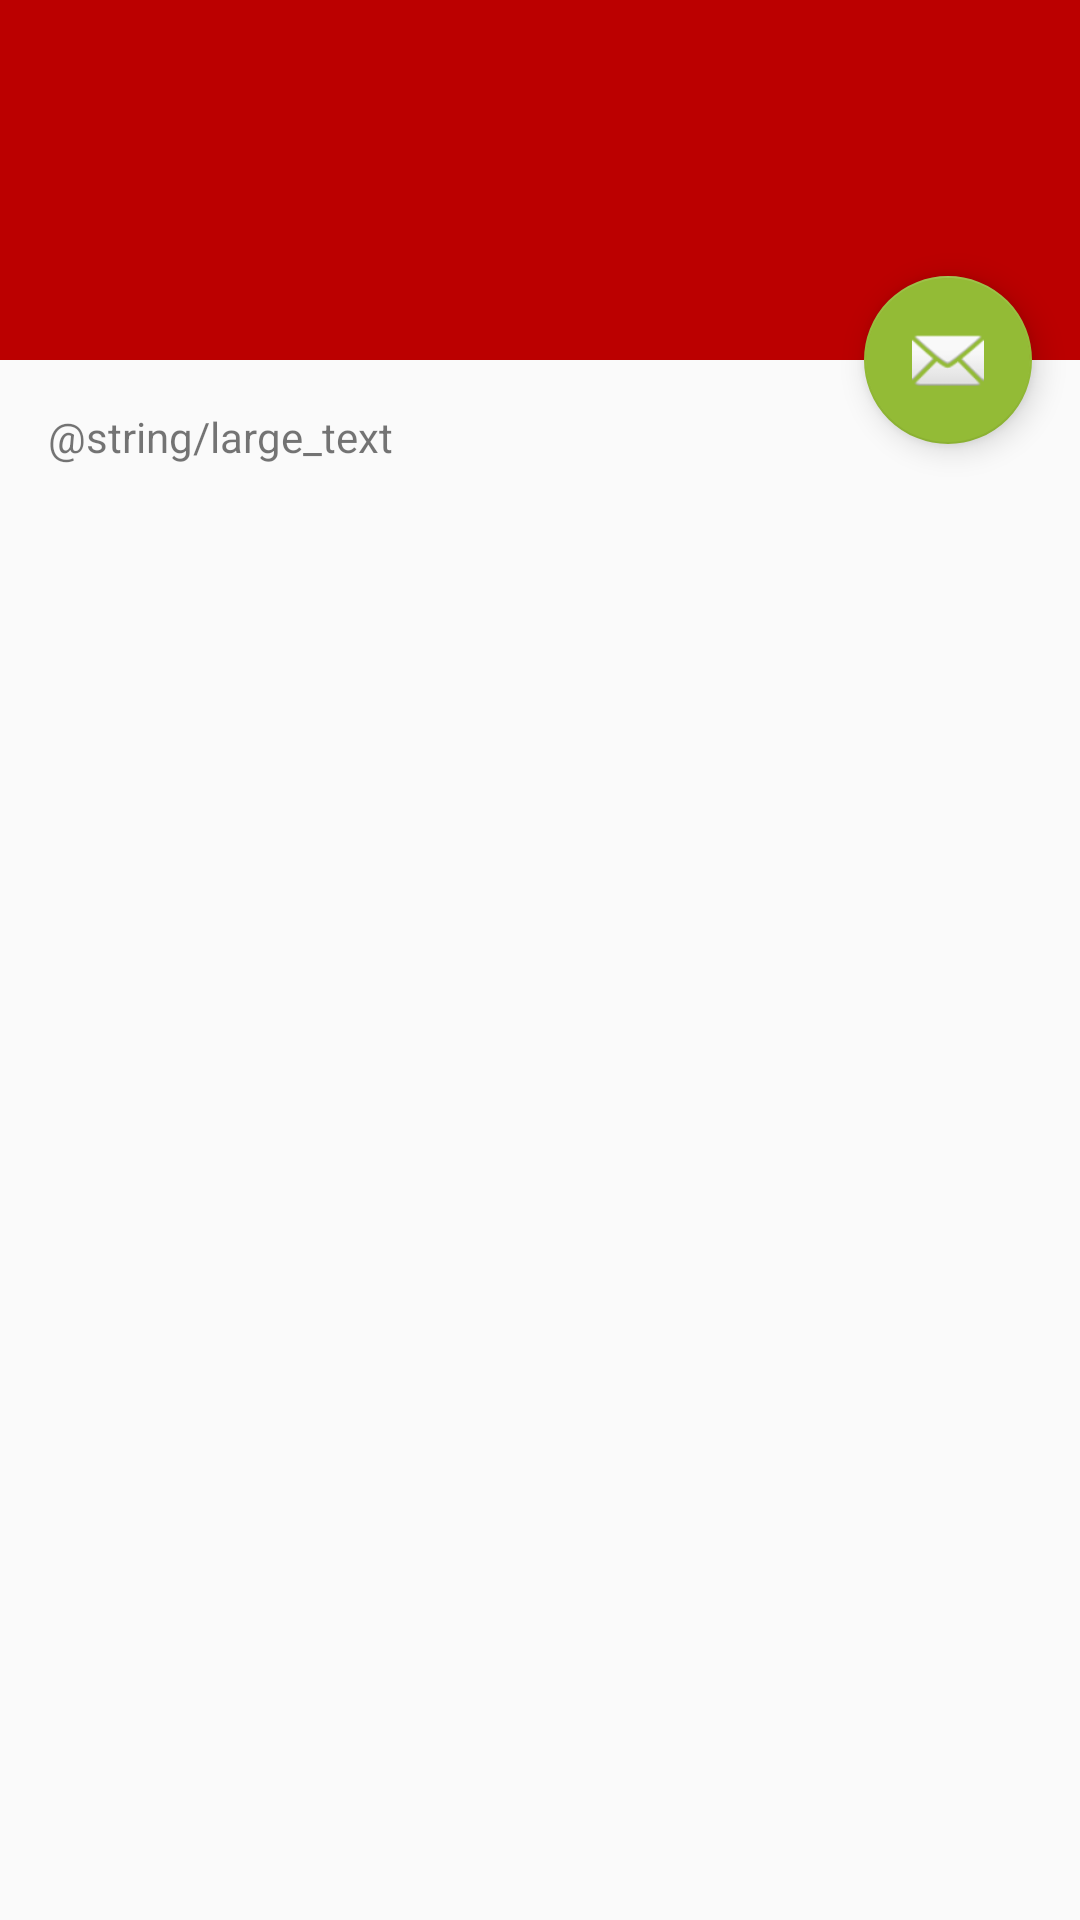

Icons on this 1080px x 1920px Android screen, each with the point to tap as point (x, y):
email: point (948, 360)
